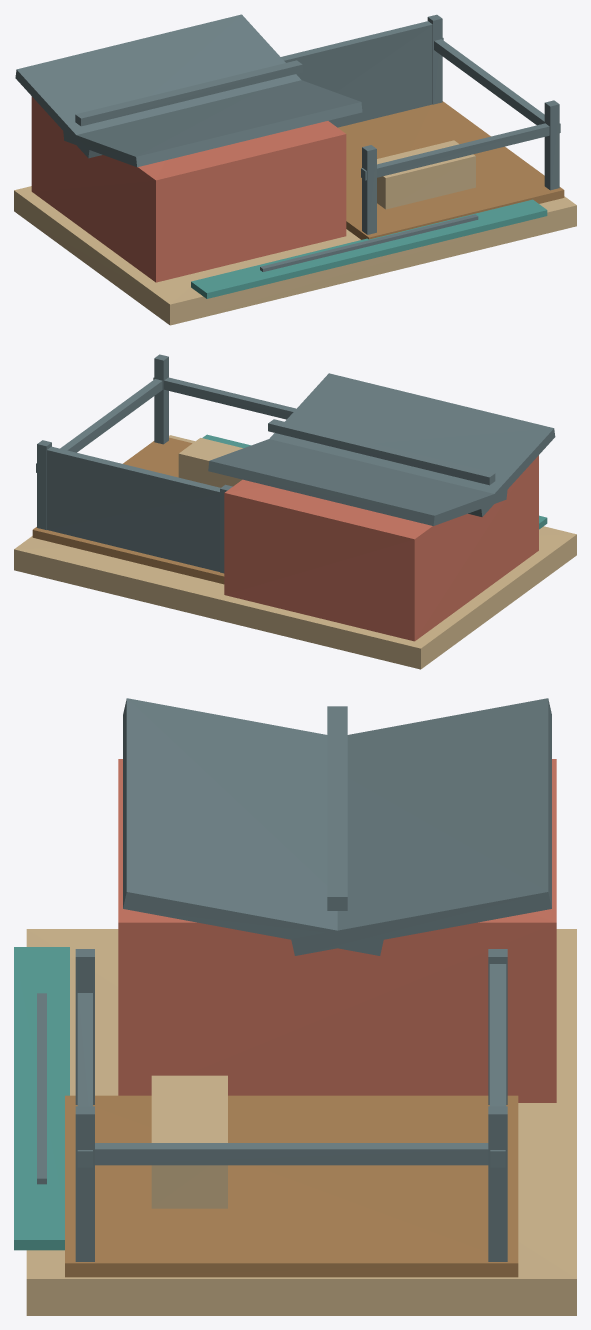
Rendered from pigsty.source.glb.
3 renders of one model, top to bottom at view 1: azimuth 30°, elevation 25°; view 2: azimuth 150°, elevation 25°; view 3: azimuth 270°, elevation 25°, orthographic. The views are drawn at different scales.
Parts seen in each view (by area): view 1: pigsty-low-timber-shelter-mesh, pigsty-shallow-galvanized-roof-mesh (×2), pigsty-low-stone-curb-mesh, pigsty-fenced-packed-mud-yard-mesh, pigsty-broad-yard-gate-frame-mesh, pigsty-drainage-channel-cue-mesh, pigsty-heavy-feed-trough-mesh, pigsty-sturdy-yard-fence-post-mesh (×3), pigsty-roof-ridge-mesh, pigsty-horizontal-yard-fence-rail-mesh, pigsty-rear-yard-fence-rail-mesh, pigsty-drainage-grate-mesh; view 2: pigsty-low-timber-shelter-mesh, pigsty-shallow-galvanized-roof-mesh (×2), pigsty-low-stone-curb-mesh, pigsty-broad-yard-gate-frame-mesh, pigsty-fenced-packed-mud-yard-mesh, pigsty-roof-ridge-mesh, pigsty-sturdy-yard-fence-post-mesh (×3), pigsty-heavy-feed-trough-mesh, pigsty-horizontal-yard-fence-rail-mesh, pigsty-rear-yard-fence-rail-mesh; view 3: pigsty-shallow-galvanized-roof-mesh (×2), pigsty-low-timber-shelter-mesh, pigsty-fenced-packed-mud-yard-mesh, pigsty-low-stone-curb-mesh, pigsty-drainage-channel-cue-mesh, pigsty-rear-yard-fence-rail-mesh, pigsty-heavy-feed-trough-mesh, pigsty-sturdy-yard-fence-post-mesh (×4), pigsty-roof-ridge-mesh, pigsty-broad-yard-gate-frame-mesh, pigsty-horizontal-yard-fence-rail-mesh, pigsty-drainage-grate-mesh.
Boxes of the visible parts, x1,y1,x2,y2 form: pigsty-low-timber-shelter-mesh: (31, 96, 346, 282); pigsty-shallow-galvanized-roof-mesh (×2): (15, 14, 362, 167); pigsty-low-stone-curb-mesh: (14, 186, 576, 325); pigsty-fenced-packed-mud-yard-mesh: (338, 101, 564, 239); pigsty-broad-yard-gate-frame-mesh: (281, 21, 432, 127); pigsty-drainage-channel-cue-mesh: (191, 199, 547, 298); pigsty-heavy-feed-trough-mesh: (377, 140, 475, 209); pigsty-sturdy-yard-fence-post-mesh (×3): (362, 14, 559, 234); pigsty-roof-ridge-mesh: (75, 60, 302, 126); pigsty-horizontal-yard-fence-rail-mesh: (361, 123, 560, 180); pigsty-rear-yard-fence-rail-mesh: (434, 39, 544, 125); pigsty-drainage-grate-mesh: (260, 214, 478, 271); pigsty-low-timber-shelter-mesh: (224, 455, 538, 641); pigsty-shallow-galvanized-roof-mesh (×2): (208, 373, 555, 525); pigsty-low-stone-curb-mesh: (14, 435, 576, 669); pigsty-broad-yard-gate-frame-mesh: (47, 446, 220, 571); pigsty-fenced-packed-mud-yard-mesh: (32, 437, 224, 584); pigsty-roof-ridge-mesh: (268, 419, 495, 485); pigsty-sturdy-yard-fence-post-mesh (×3): (37, 354, 232, 573); pigsty-heavy-feed-trough-mesh: (178, 438, 242, 487); pigsty-horizontal-yard-fence-rail-mesh: (153, 377, 296, 419); pigsty-rear-yard-fence-rail-mesh: (60, 379, 162, 452); pigsty-shallow-galvanized-roof-mesh (×2): (123, 698, 551, 955); pigsty-low-timber-shelter-mesh: (118, 759, 556, 1102); pigsty-fenced-packed-mud-yard-mesh: (65, 1095, 518, 1277); pigsty-low-stone-curb-mesh: (26, 929, 576, 1315); pigsty-drainage-channel-cue-mesh: (14, 947, 69, 1250); pigsty-rear-yard-fence-rail-mesh: (95, 1143, 488, 1165); pigsty-heavy-feed-trough-mesh: (151, 1075, 227, 1208); pigsty-sturdy-yard-fence-post-mesh (×4): (75, 949, 507, 1261); pigsty-roof-ridge-mesh: (327, 706, 347, 910); pigsty-broad-yard-gate-frame-mesh: (489, 964, 506, 1106); pigsty-horizontal-yard-fence-rail-mesh: (77, 993, 92, 1167); pigsty-drainage-grate-mesh: (37, 993, 46, 1184).
Bounding box in the file's own units: 3.29 × 1.14 × 2.21.
